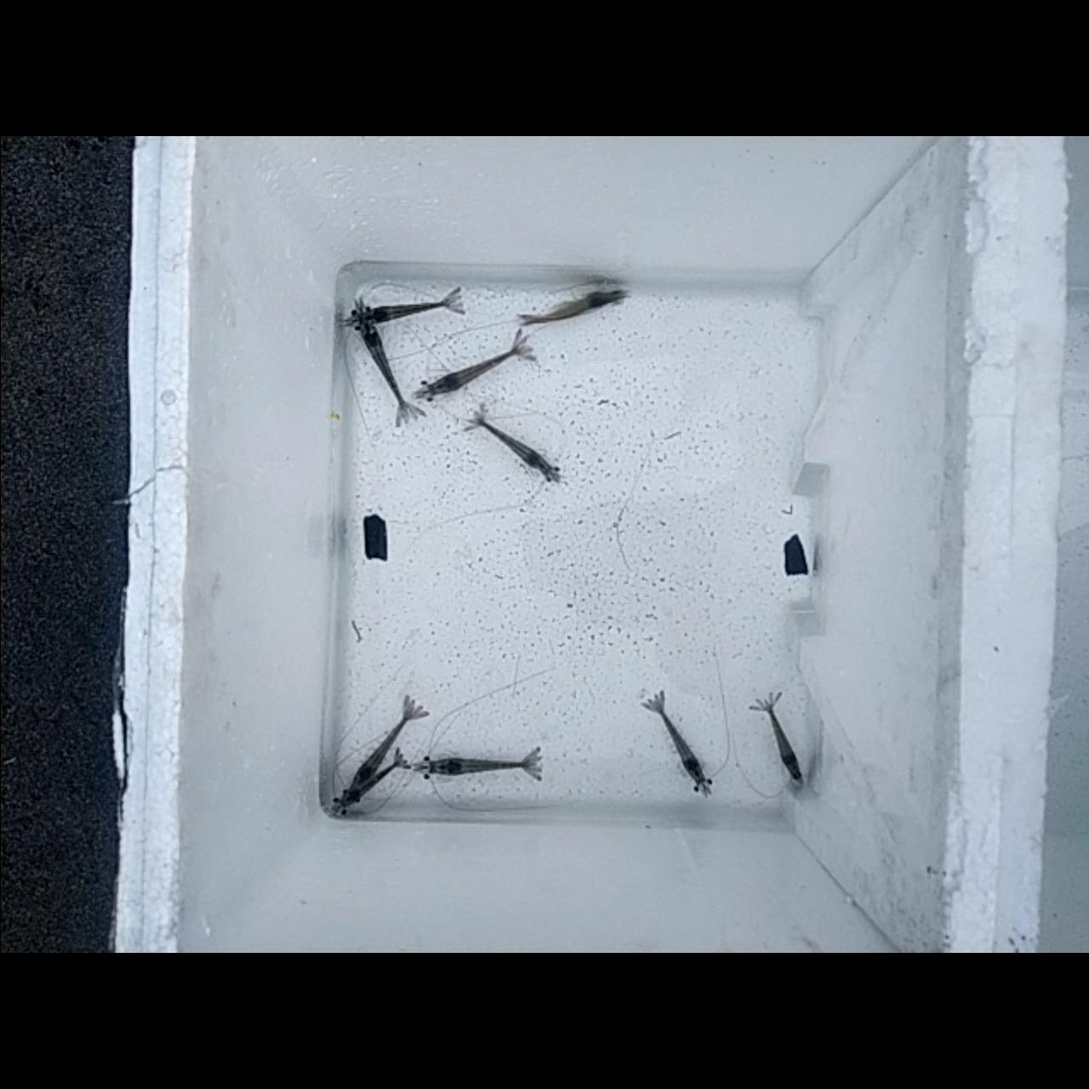box: (362, 517, 386, 558), (783, 539, 805, 575)
top_shrimp: (357, 323, 403, 412), (354, 712, 411, 783), (430, 349, 516, 395), (480, 424, 548, 476), (657, 704, 701, 781), (342, 761, 404, 806), (524, 294, 609, 325), (362, 301, 453, 323), (767, 708, 796, 774), (427, 759, 531, 776)
